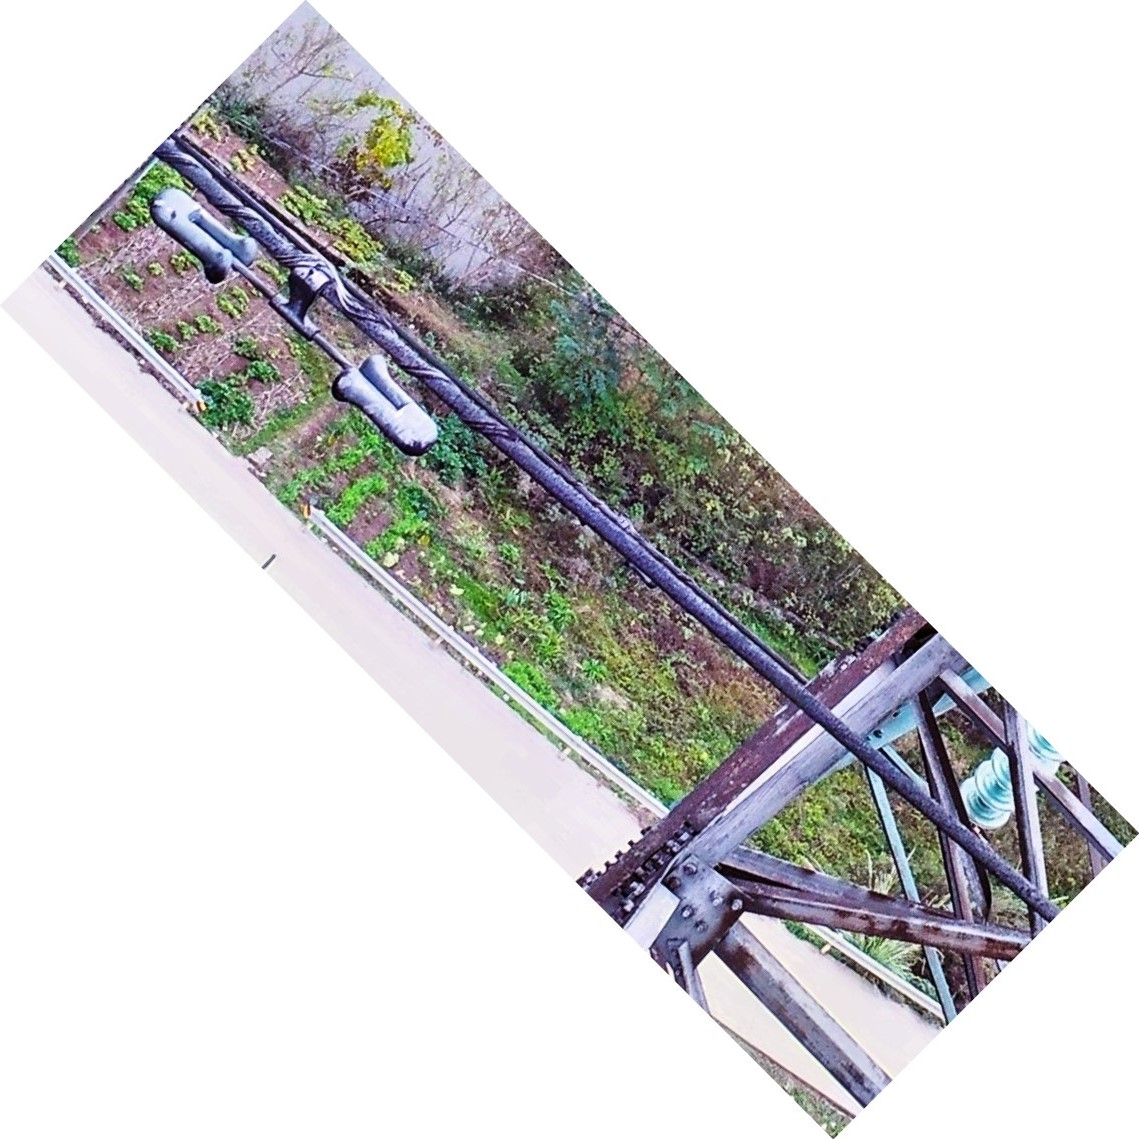Shockproof hammer: (141, 169, 461, 481)
